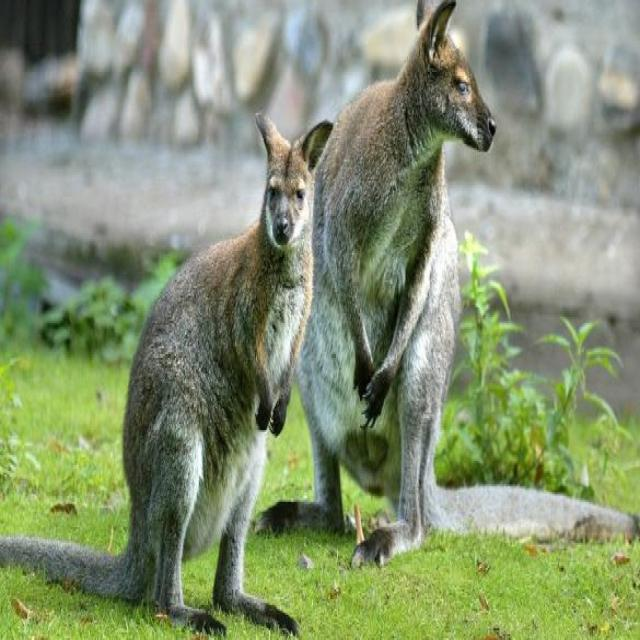Kangaroo: (0, 94, 341, 640), (296, 0, 504, 560)
